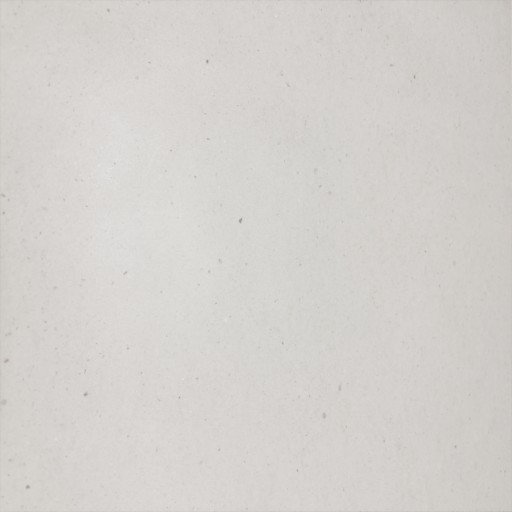lego: (206, 212, 308, 298)
